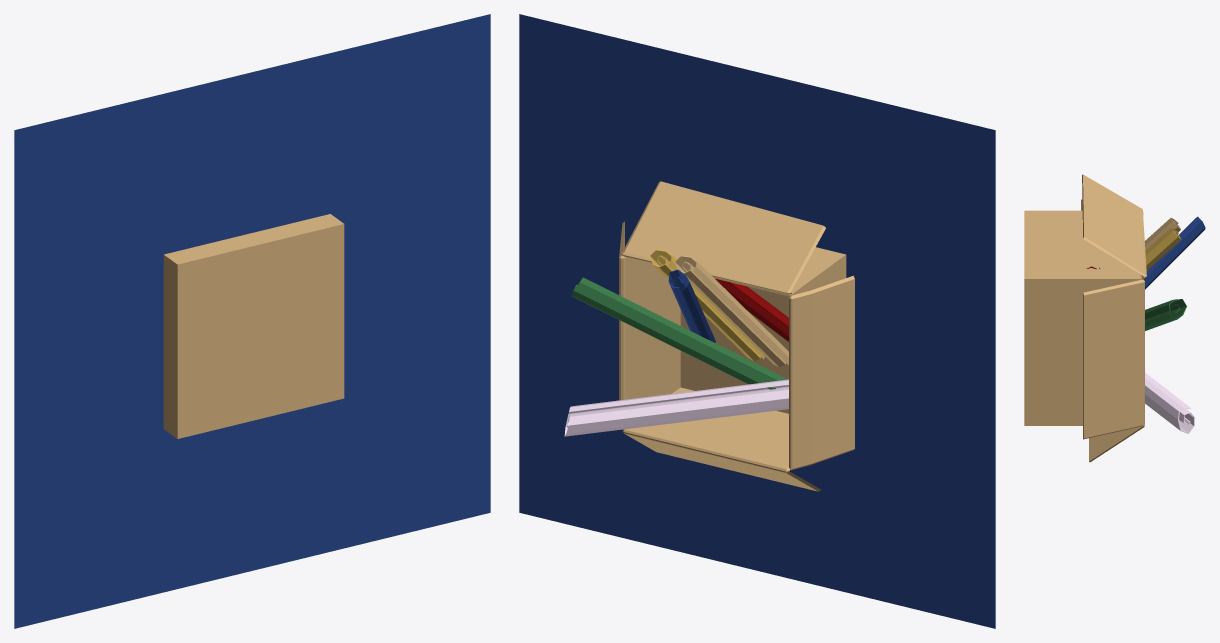
Rendered from UtilityRoom_NewsPaperBox.fbx.
The picture shows the model from 3 angles, left to right: view 1: azimuth 30°, elevation 25°; view 2: azimuth 150°, elevation 25°; view 3: azimuth 270°, elevation 25°; orthographic projection. The views are drawn at different scales.
Parts seen in each view (by area): view 1: Plane.295, NewsPaperBox; view 2: Plane.295, NewsPaperBox; view 3: NewsPaperBox.
Part boxes in pixels (x1,y1,x2,y2): Plane.295: (14, 14, 490, 628); NewsPaperBox: (163, 214, 344, 438); Plane.295: (519, 14, 995, 628); NewsPaperBox: (564, 181, 854, 491); NewsPaperBox: (1024, 174, 1205, 462).
Size of the model in its own units: 2 by 2 by 0.7824.
